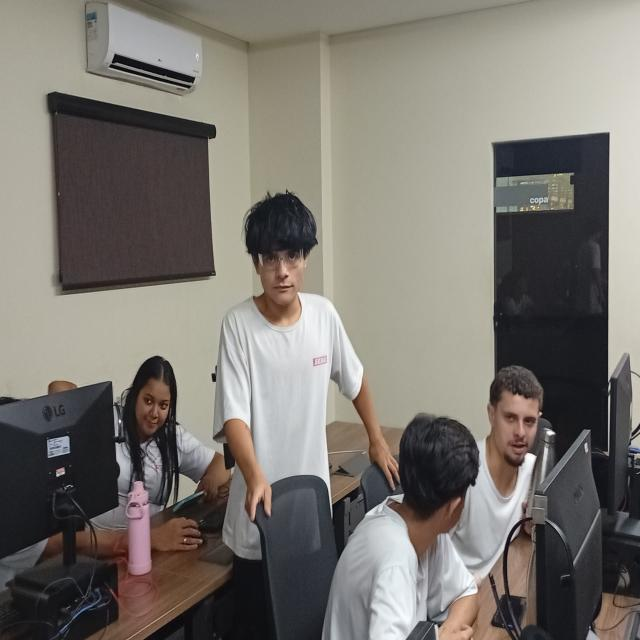oculos-epi: (258, 246, 303, 268)
sem_oculos: (488, 403, 546, 433), (129, 382, 177, 418), (442, 482, 472, 513)
